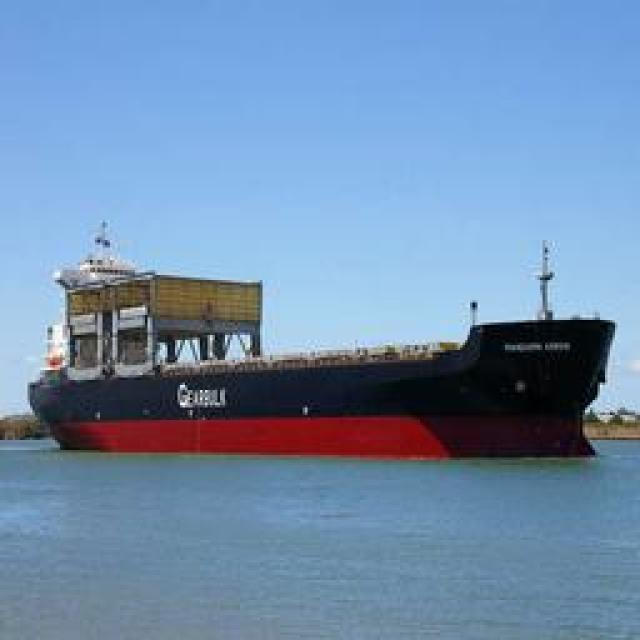ship2: (27, 226, 618, 466)
